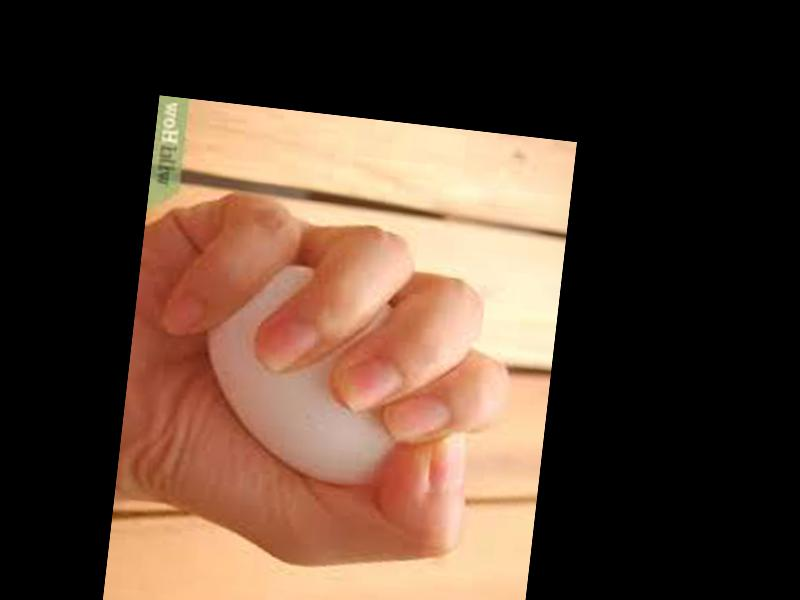Eggs: (193, 253, 436, 492)
